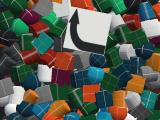Right: (63, 7, 112, 56)
